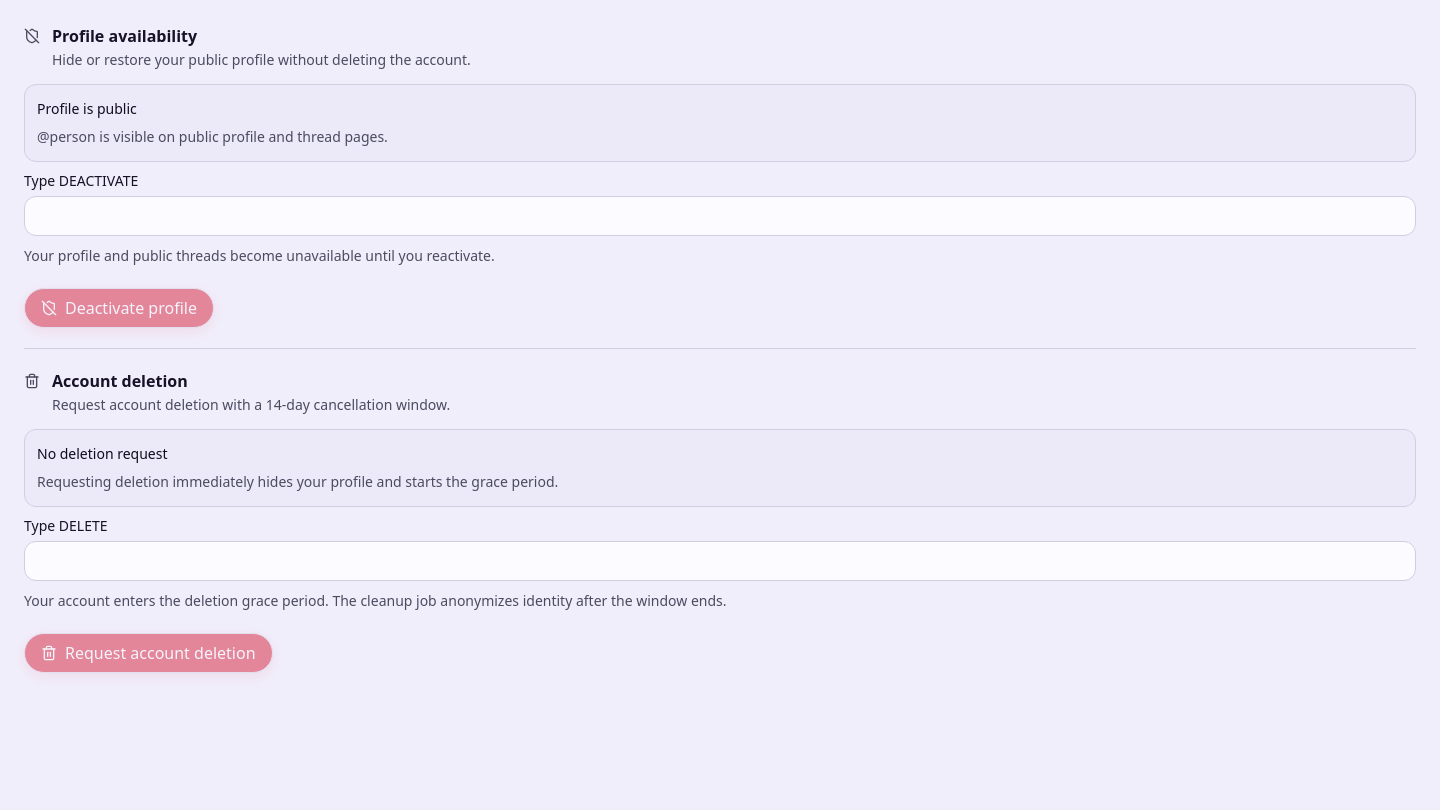
AccountSettingsForm › opens a confirmation dialog before requesting account deletion
Step 1. Type "DELETE" into the field labelled "Type DELETE" → (720, 561), box [24,541,1416,581]
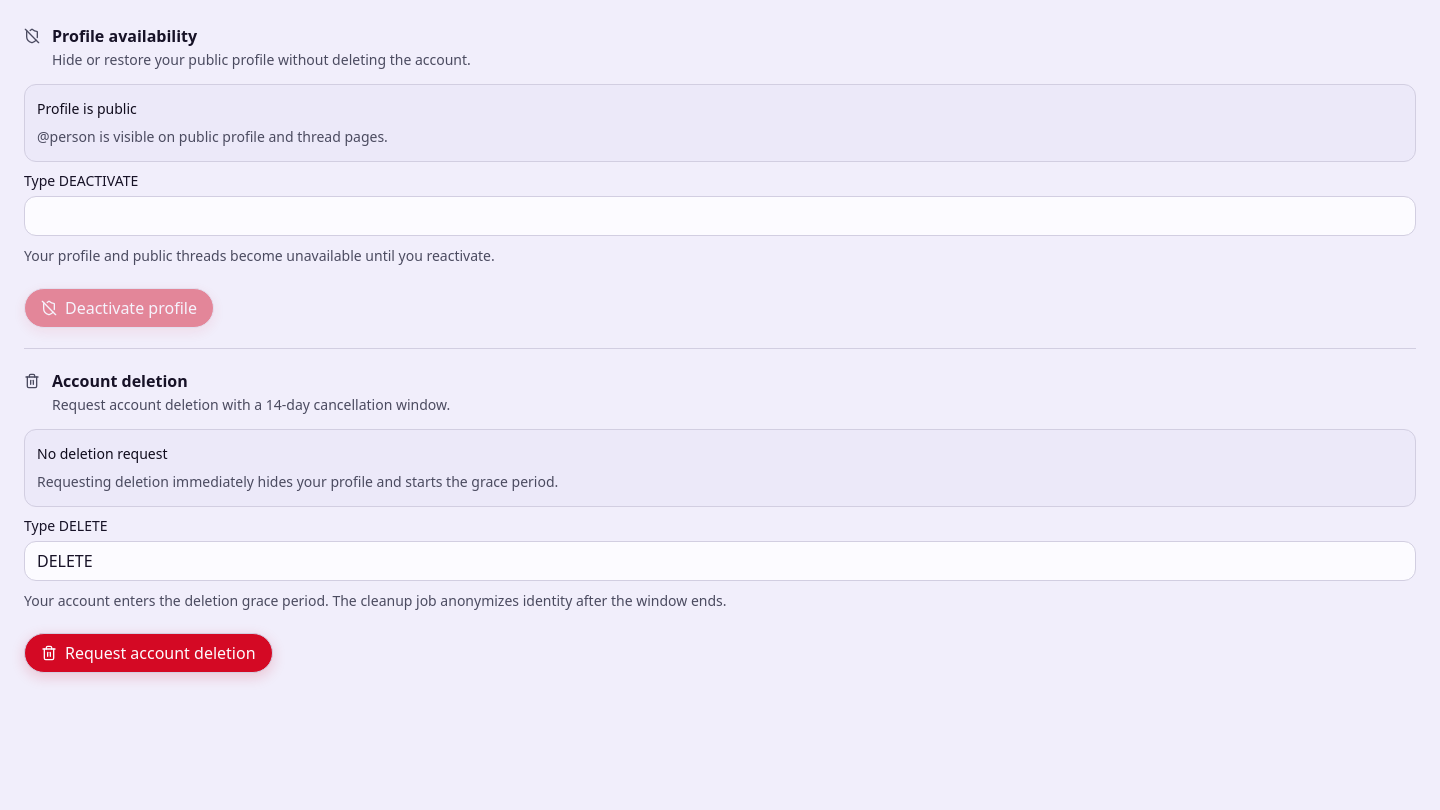
Step 2. Click the button "Request account deletion" → (148, 653), box [24,633,272,673]
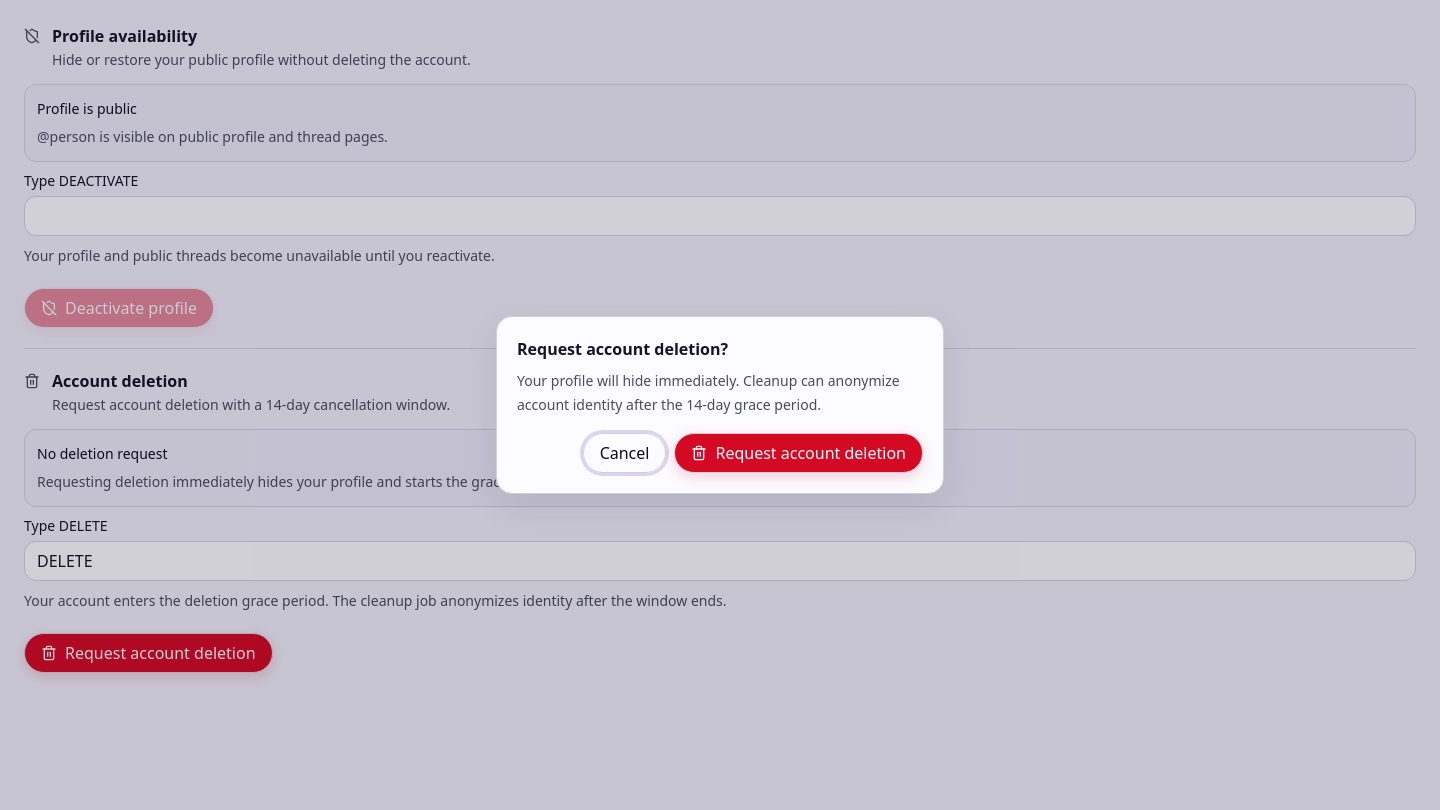
Now the text "Your profile will hide immediately" is shown, box [517,371,900,414]
Now the button "Request account deletion" is enabled, box [674,433,923,473]
